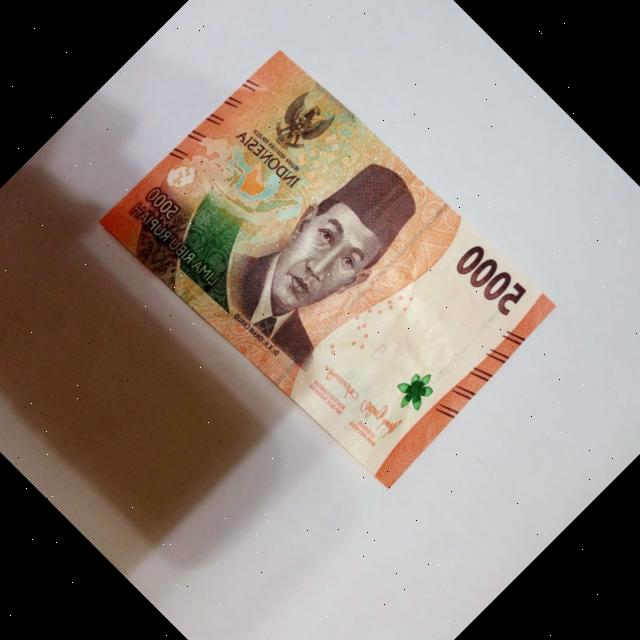5K: (84, 21, 576, 513)
